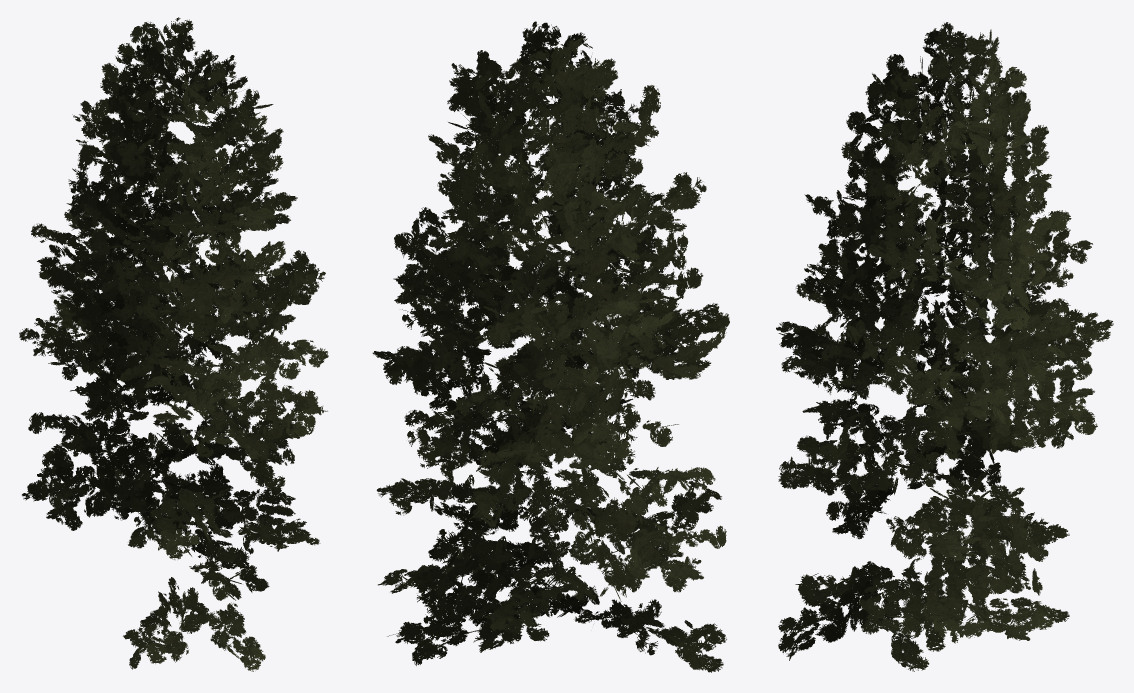
File: fir_a_near.glb
3 renders of one model, left to right at view 1: azimuth 30°, elevation 25°; view 2: azimuth 150°, elevation 25°; view 3: azimuth 270°, elevation 25°, orthographic. The views are drawn at different scales.
Visible parts, largest first — view 1: cards; view 2: cards; view 3: cards.
Boxes of the visible parts, left/top/right/bottom form: cards: left=19, top=17, right=328, bottom=671; cards: left=372, top=21, right=729, bottom=672; cards: left=776, top=22, right=1113, bottom=671.
Bounding box in the file's own units: 6.92 × 13.45 × 6.78.
Materials: 1 (1 with a texture image).
